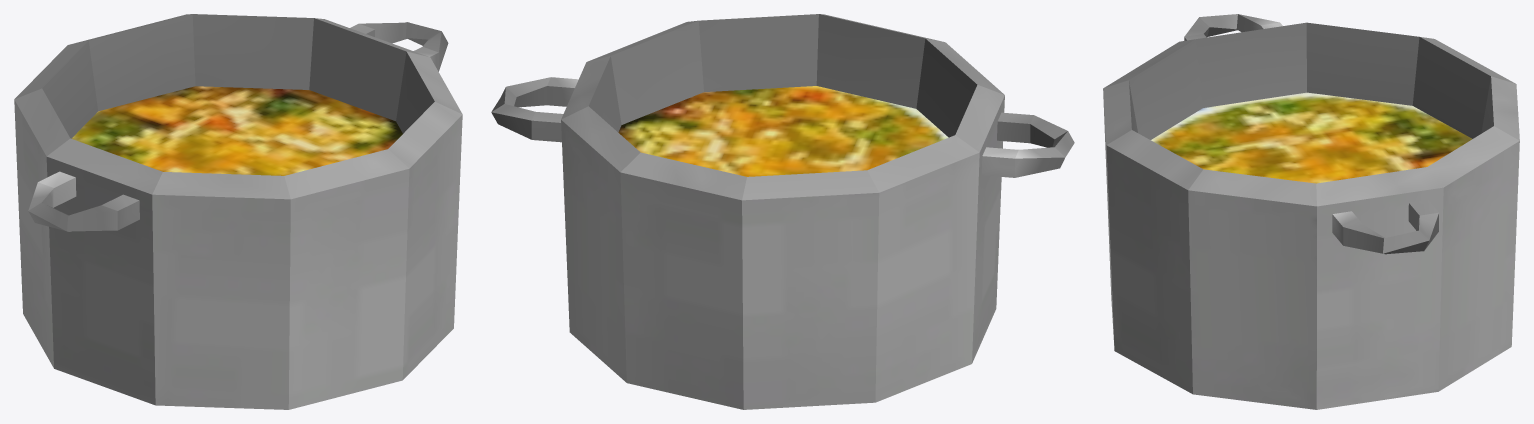
File: soup model.glb
The picture shows the model from 3 angles, left to right: view 1: azimuth 30°, elevation 25°; view 2: azimuth 150°, elevation 25°; view 3: azimuth 270°, elevation 25°; orthographic projection. The views are drawn at different scales.
Visible parts, largest first — view 1: Cube_002; view 2: Cube_002; view 3: Cube_002.
Boxes of the visible parts, x1,y1,x2,y2 form: Cube_002: (14, 14, 462, 409); Cube_002: (491, 14, 1074, 409); Cube_002: (1103, 14, 1519, 409).
Bounding box in the file's own units: 0.3378 × 0.1478 × 0.2554.
2 materials, 2 textured.
